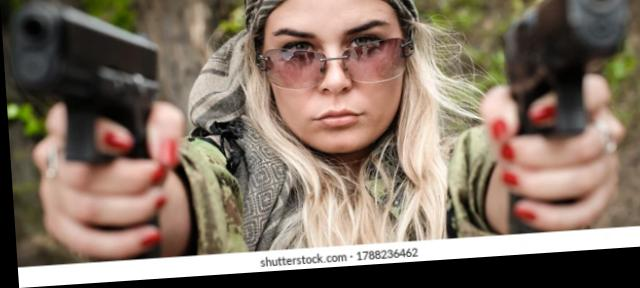other: (25, 0, 618, 263)
